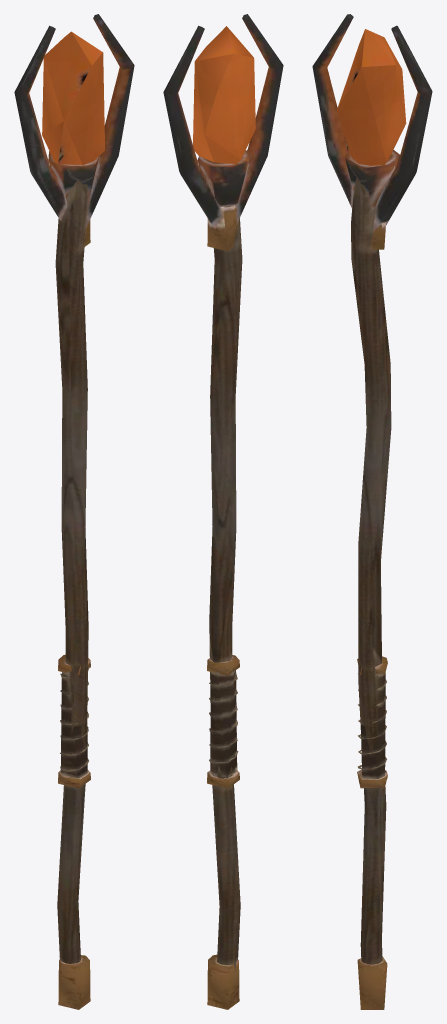
Rendered from eq_staff_3_lod1.glb.
3 views of the same model, side by side, from view 1: azimuth 30°, elevation 25°; view 2: azimuth 210°, elevation 25°; view 3: azimuth 330°, elevation 25° (orthographic).
Parts seen in each view (by area): view 1: eq_staff_3_lod1; view 2: eq_staff_3_lod1; view 3: eq_staff_3_lod1.
Boxes of the visible parts, <box> form: eq_staff_3_lod1: <box>14,14,134,1009</box>; eq_staff_3_lod1: <box>163,14,283,1009</box>; eq_staff_3_lod1: <box>312,14,432,1009</box>.
Size of the model in its own units: 0.2575 by 2.05 by 0.1079.
1 material, 1 textured.
